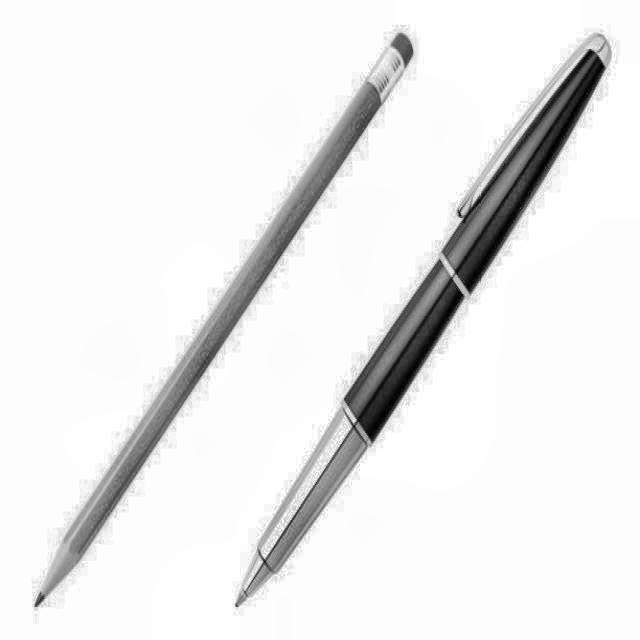Pen: (246, 20, 637, 640)
